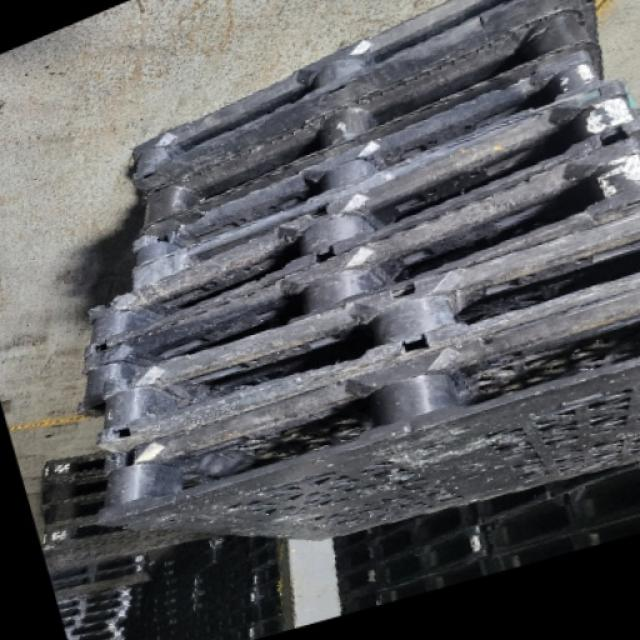igps: (79, 66, 634, 384), (72, 119, 640, 427), (83, 280, 640, 546), (90, 193, 640, 459), (124, 34, 610, 297), (132, 5, 602, 240), (123, 0, 604, 207), (38, 510, 225, 584), (46, 546, 150, 594), (49, 562, 157, 596), (37, 443, 119, 482), (36, 494, 115, 530), (36, 475, 116, 507)
